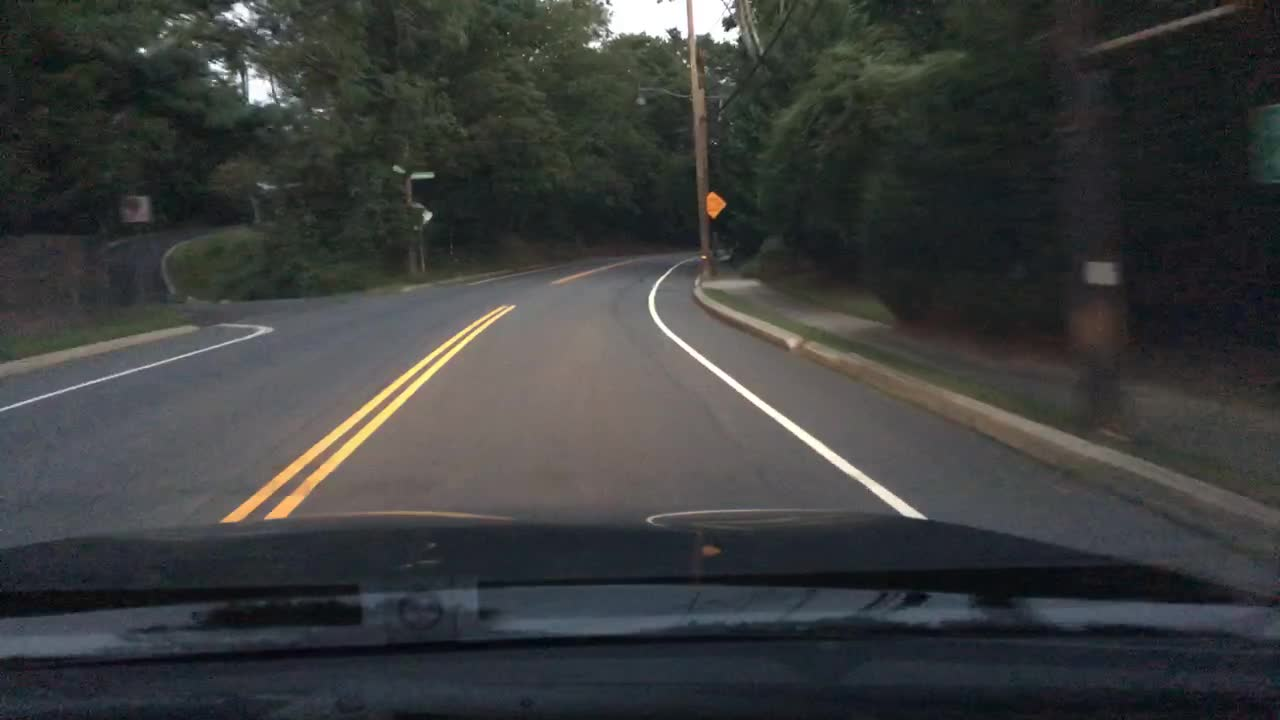traffic sign: (1245, 104, 1279, 184), (118, 192, 152, 226), (705, 191, 725, 219), (411, 204, 433, 229), (390, 160, 408, 175), (410, 169, 435, 179)
